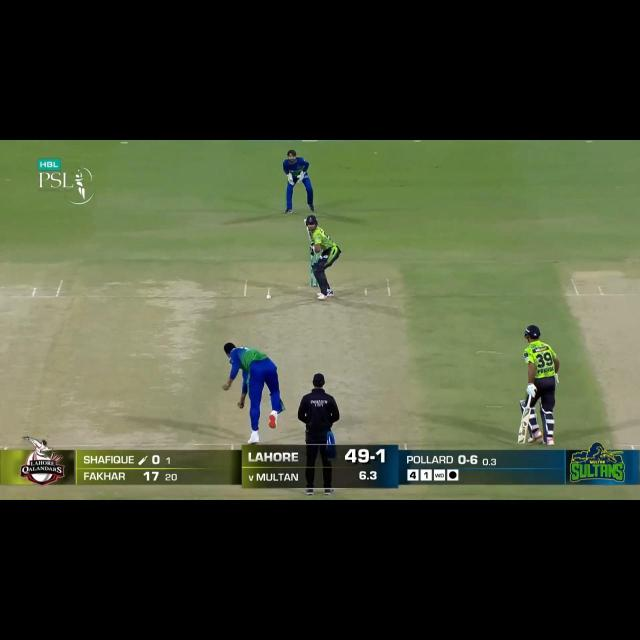bat: (516, 406, 531, 444), (302, 219, 316, 245)
toe: (514, 436, 528, 446), (302, 217, 308, 226)
